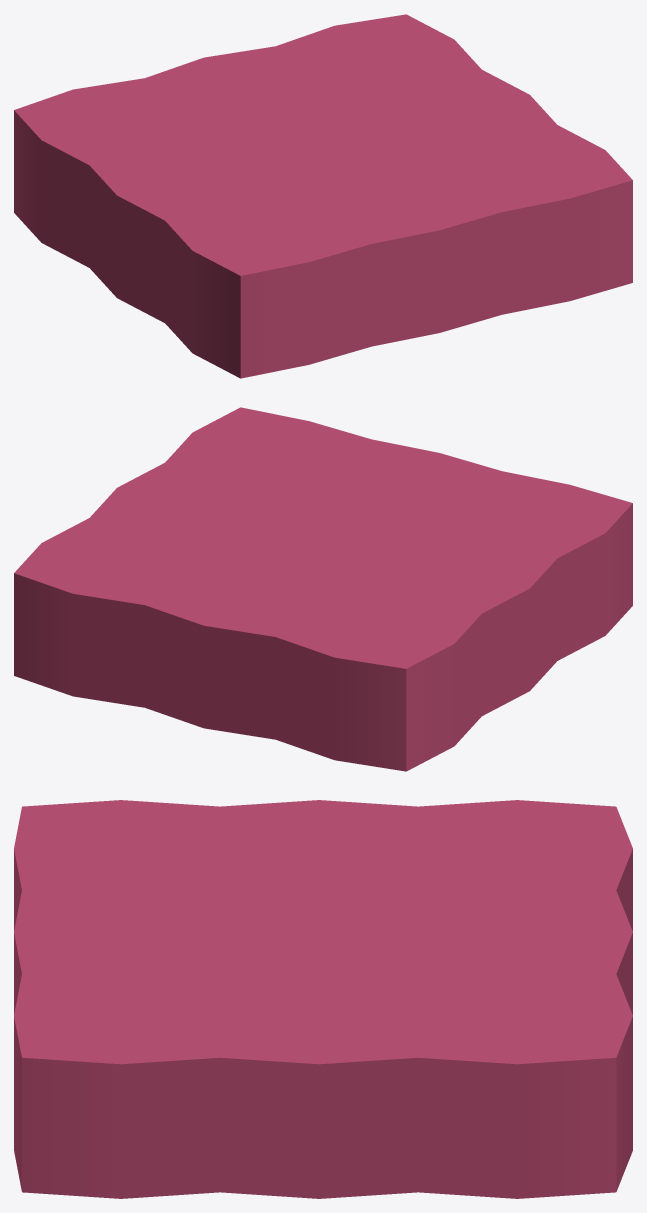
The model's file is jaggeredTile-18b_col_001.fbx.
3 renders of one model, top to bottom at view 1: azimuth 30°, elevation 25°; view 2: azimuth 150°, elevation 25°; view 3: azimuth 270°, elevation 25°, orthographic. The views are drawn at different scales.
Parts seen in each view (by area): view 1: jaggeredTile-18b.col.001; view 2: jaggeredTile-18b.col.001; view 3: jaggeredTile-18b.col.001.
Boxes of the visible parts, x1,y1,x2,y2 form: jaggeredTile-18b.col.001: (14,14,632,378); jaggeredTile-18b.col.001: (14,407,632,771); jaggeredTile-18b.col.001: (14,800,632,1198).
Bounding box in the file's own units: 2.1 × 0.5 × 2.08.
1 material, 1 textured.
